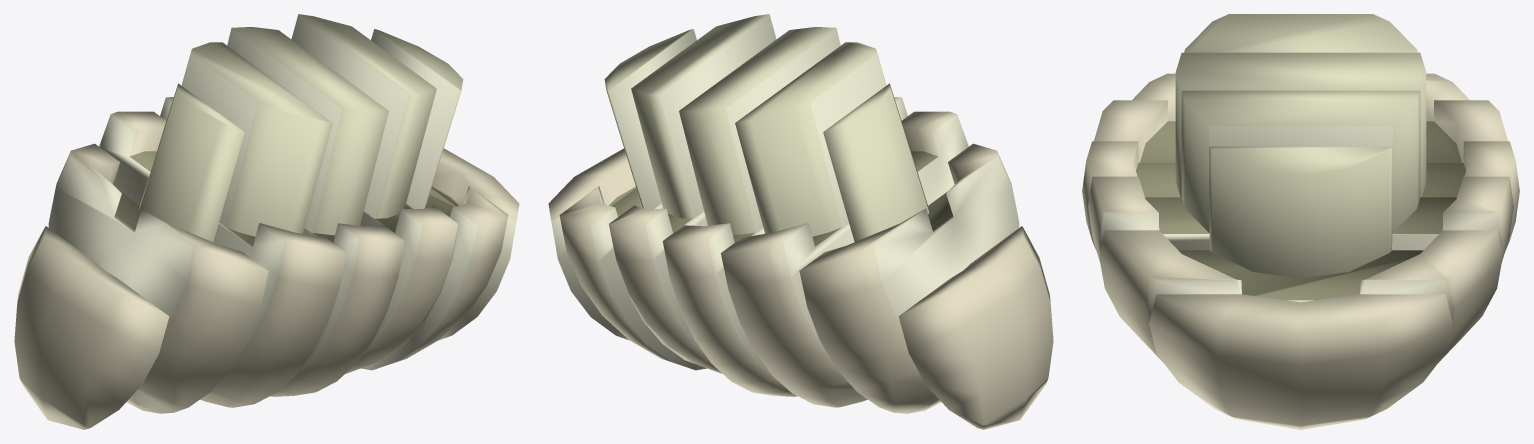
File: mushroomSliced.fbx
3 views of the same model, side by side, from view 1: azimuth 30°, elevation 25°; view 2: azimuth 150°, elevation 25°; view 3: azimuth 270°, elevation 25° (orthographic). The views are drawn at different scales.
Parts seen in each view (by area): view 1: Mushroom.004, Mushroom, Mushroom.003, Mushroom.006, Mushroom.002, Mushroom.001, Mushroom.005; view 2: Mushroom.004, Mushroom, Mushroom.003, Mushroom.006, Mushroom.002, Mushroom.001, Mushroom.005; view 3: Mushroom.001, Mushroom.005, Mushroom.002, Mushroom.003, Mushroom, Mushroom.004.
Part boxes in pixels (x1,y1,x2,y2): Mushroom.004: (48, 83, 268, 413); Mushroom: (99, 42, 346, 407); Mushroom.003: (160, 27, 405, 396); Mushroom.006: (14, 226, 169, 429); Mushroom.002: (291, 14, 458, 373); Mushroom.001: (361, 29, 508, 370); Mushroom.005: (431, 148, 519, 339); Mushroom.004: (799, 83, 1019, 413); Mushroom: (721, 42, 968, 407); Mushroom.003: (662, 27, 907, 396); Mushroom.006: (898, 226, 1053, 429); Mushroom.002: (609, 14, 776, 373); Mushroom.001: (559, 29, 706, 370); Mushroom.005: (548, 148, 636, 339); Mushroom.001: (1099, 146, 1502, 362); Mushroom.005: (1149, 294, 1452, 429); Mushroom.002: (1088, 90, 1513, 262); Mushroom.003: (1082, 52, 1519, 251); Mushroom: (1094, 14, 1507, 162); Mushroom.004: (1132, 73, 1469, 121).
Bounding box in the file's own units: 58.28 × 37.99 × 45.
